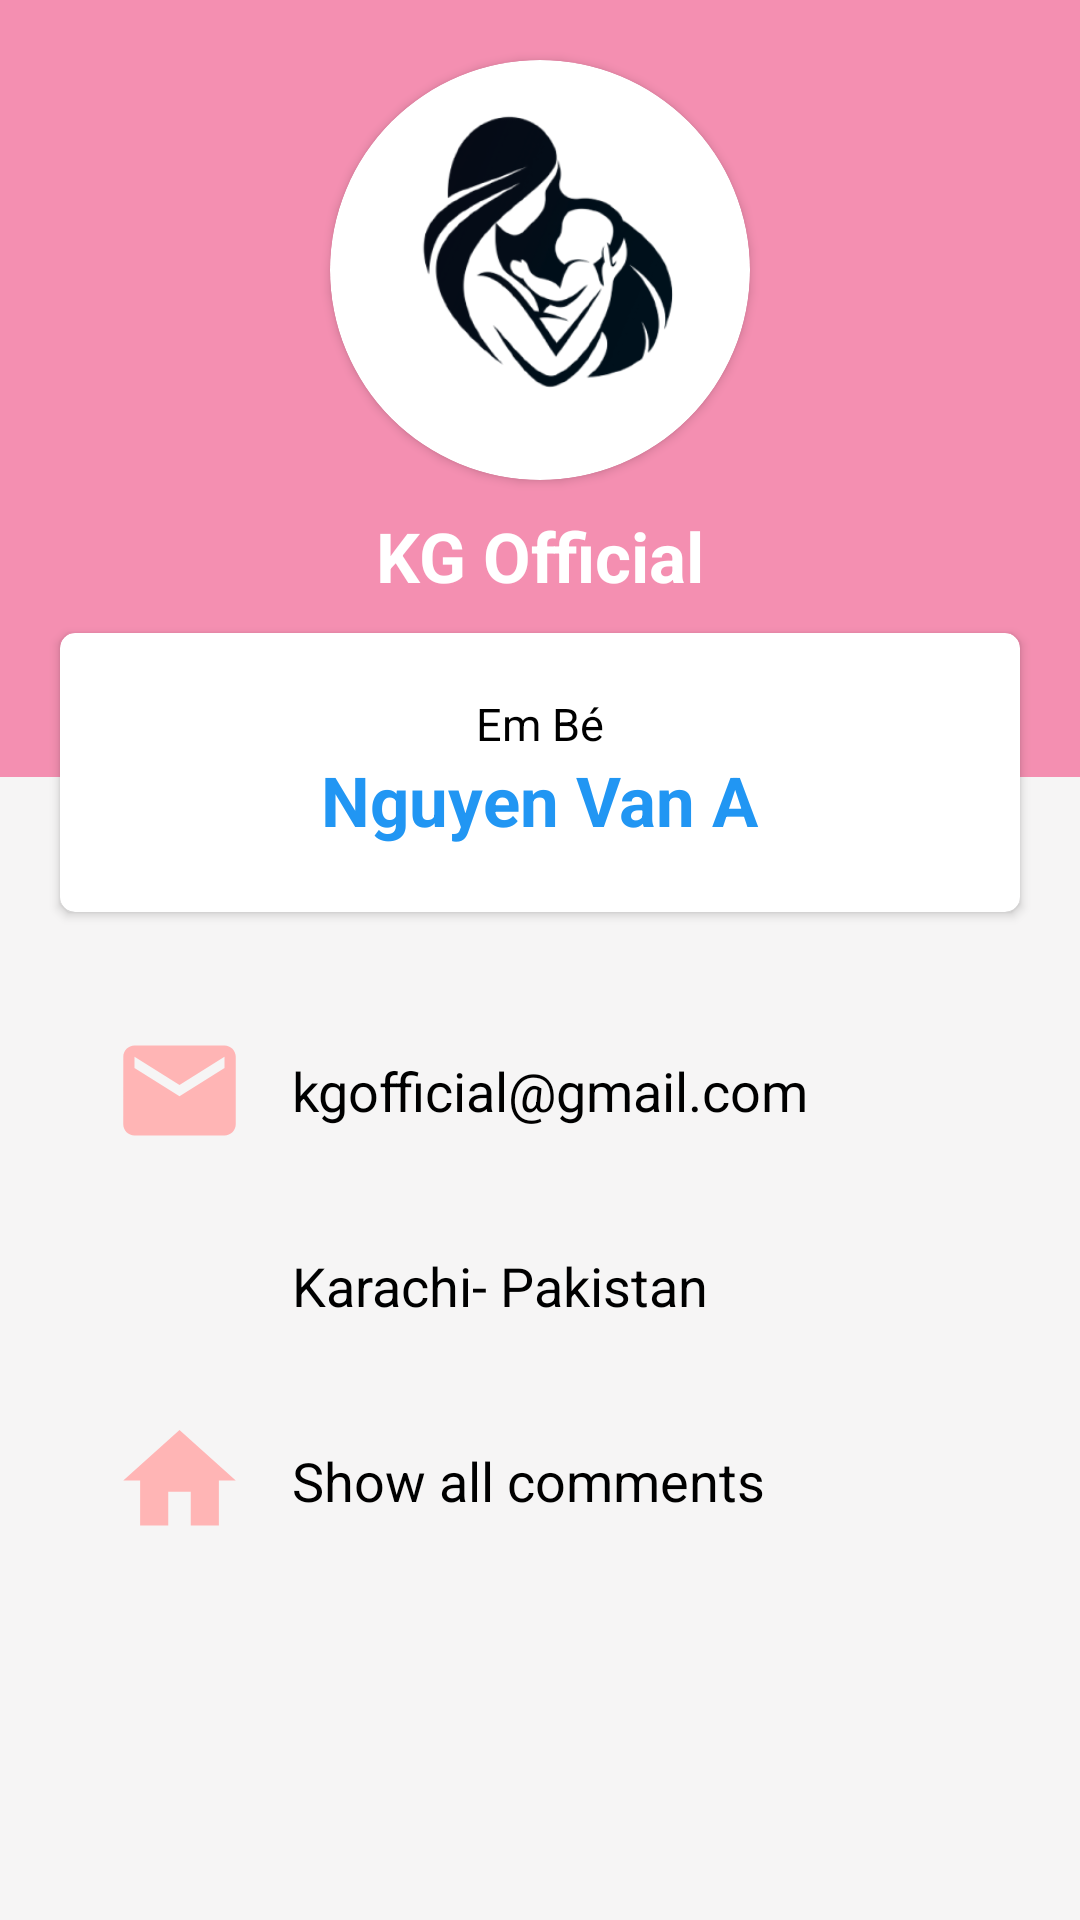

Locate icon controls on the screen. Image size 1080x1920, boxes as (x1, y1, x2, y2).
email: (123, 1045, 236, 1136)
home: (124, 1430, 235, 1526)
